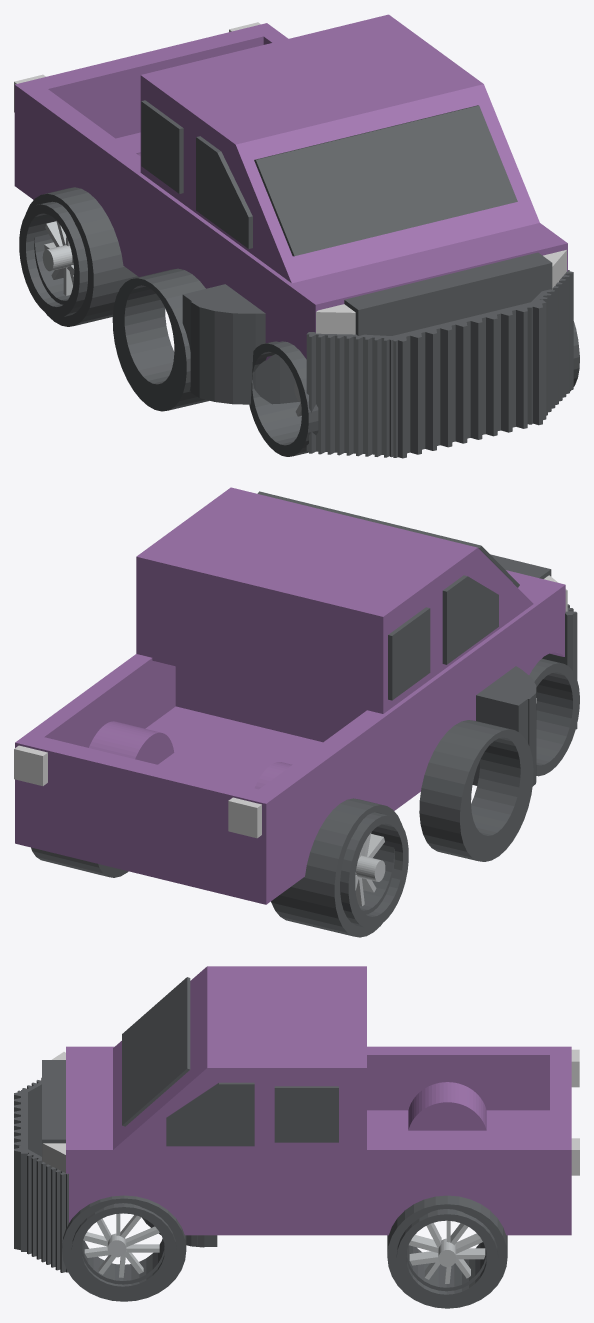
File: car.glb
3 views of the same model, one above another, from view 1: azimuth 30°, elevation 25°; view 2: azimuth 150°, elevation 25°; view 3: azimuth 270°, elevation 25° (orthographic). The views are drawn at different scales.
Visible parts, largest first — view 1: Mesh_Mesh_head_geo.001_lambert2SG.001; view 2: Mesh_Mesh_head_geo.001_lambert2SG.001; view 3: Mesh_Mesh_head_geo.001_lambert2SG.001.
Part boxes in pixels (x1,y1,x2,y2): Mesh_Mesh_head_geo.001_lambert2SG.001: (14,14,579,458); Mesh_Mesh_head_geo.001_lambert2SG.001: (14,487,579,937); Mesh_Mesh_head_geo.001_lambert2SG.001: (14,966,579,1308).
Size of the model in its own units: 82 by 63 by 141.
